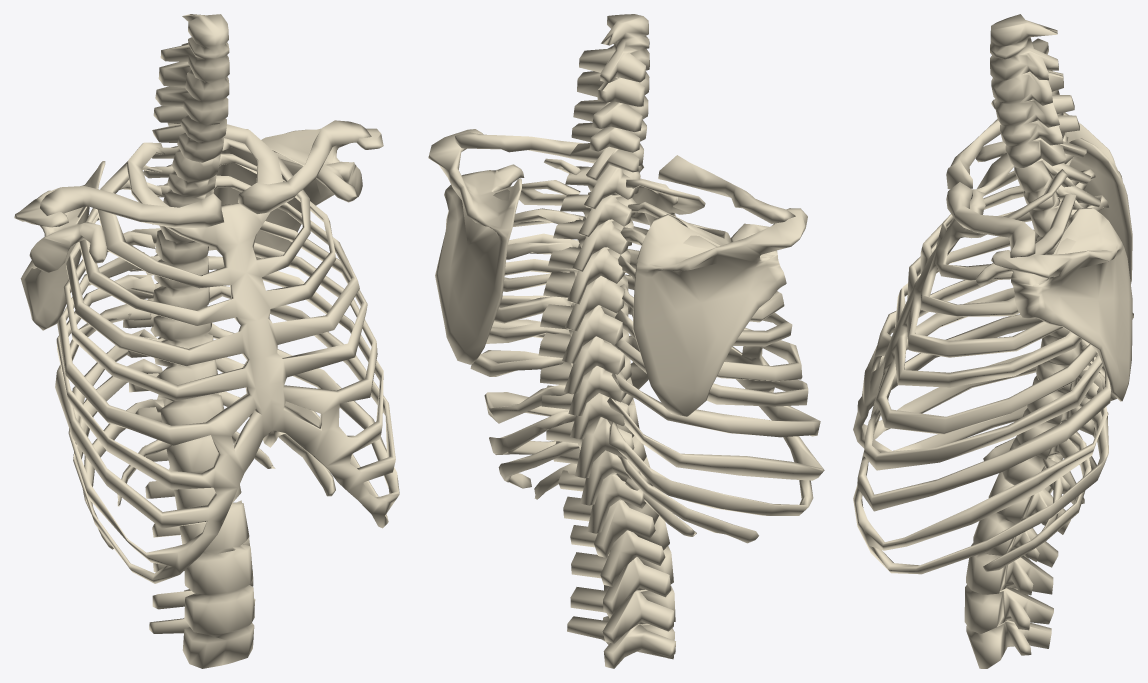
File: chest.fbx
The picture shows the model from 3 angles, left to right: view 1: azimuth 30°, elevation 25°; view 2: azimuth 150°, elevation 25°; view 3: azimuth 270°, elevation 25°; orthographic projection. The views are drawn at different scales.
Visible parts, largest first — view 1: Chest1, Abdomen1, RightCol_2_1, LeftCollar1, Neck1; view 2: Chest1, RightCol_2_1, LeftCollar1, Abdomen1, Neck1; view 3: Chest1, LeftCollar1, Abdomen1, Neck1, RightCol_2_1.
Part boxes in pixels (x1,y1,x2,y2): Chest1: (55, 124, 399, 583); Abdomen1: (145, 481, 255, 668); RightCol_2_1: (14, 161, 223, 330); LeftCollar1: (213, 120, 383, 258); Neck1: (152, 14, 229, 162); Chest1: (470, 158, 824, 543); RightCol_2_1: (632, 155, 807, 416); LeftCollar1: (428, 129, 643, 364); Abdomen1: (563, 486, 675, 668); Neck1: (570, 14, 649, 180); Chest1: (853, 135, 1133, 574); LeftCollar1: (946, 182, 1132, 401); Abdomen1: (964, 472, 1070, 668); Neck1: (990, 14, 1086, 168); RightCol_2_1: (946, 99, 1132, 283).
Size of the model in its own units: 14.06 by 23.57 by 9.44.
